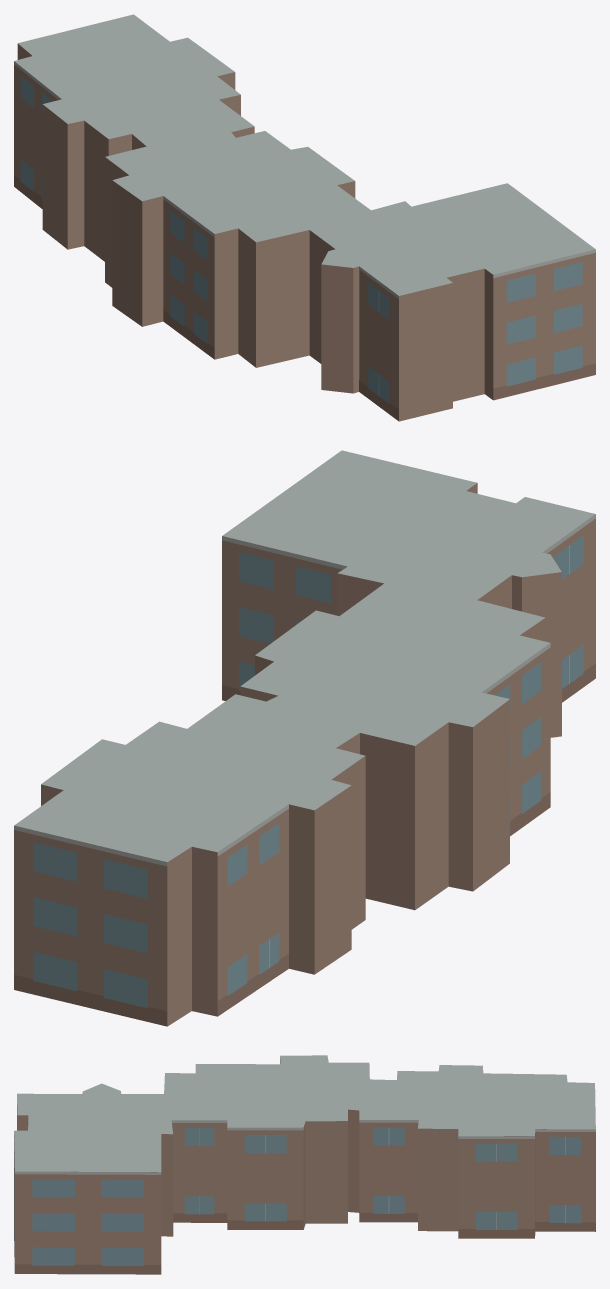
The model's file is survey-upis-32473759.glb.
3 views of the same model, one above another, from view 1: azimuth 30°, elevation 25°; view 2: azimuth 150°, elevation 25°; view 3: azimuth 270°, elevation 25° (orthographic). The views are drawn at different scales.
Parts seen in each view (by area): view 1: survey-upis-32473759.tmp; view 2: survey-upis-32473759.tmp; view 3: survey-upis-32473759.tmp.
Part boxes in pixels (bbox=[...]): survey-upis-32473759.tmp: bbox=[14, 14, 595, 421]; survey-upis-32473759.tmp: bbox=[14, 450, 595, 1026]; survey-upis-32473759.tmp: bbox=[14, 1055, 595, 1274].
Size of the model in its own units: 22.39 by 9.15 by 47.14.
